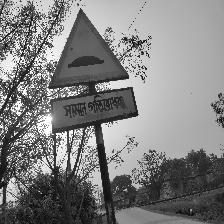Speed-breaker: (48, 7, 136, 135)
